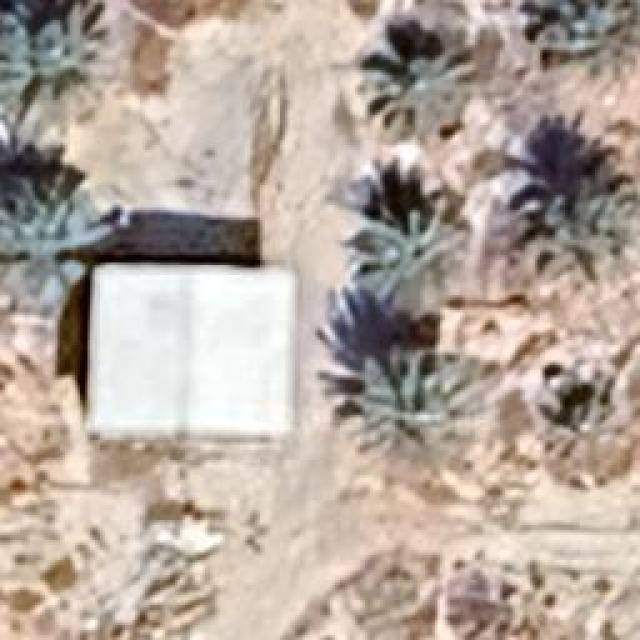PalmTree: (340, 202, 468, 316), (358, 321, 458, 451), (0, 0, 98, 120), (360, 39, 470, 142), (540, 0, 638, 105), (540, 154, 625, 258), (2, 170, 100, 242), (556, 375, 629, 440)
